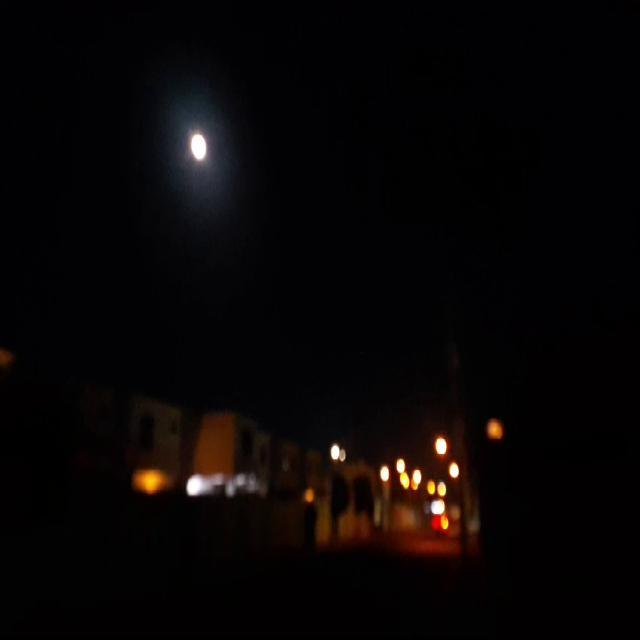moon: (191, 142, 211, 176)
